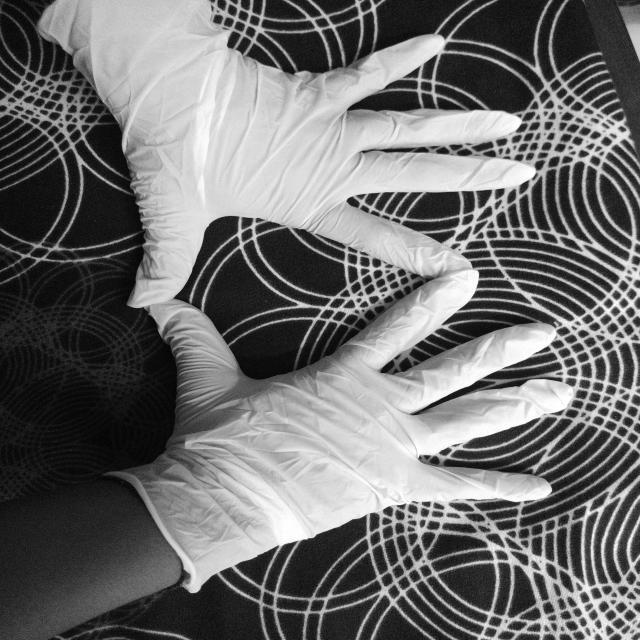Gloves: (91, 274, 578, 588), (28, 2, 533, 301)
